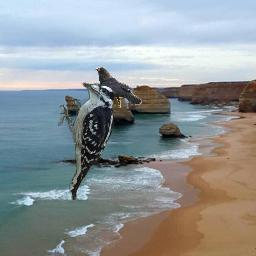Crow: (94, 67, 142, 108)
Woodpecker: (58, 81, 121, 200)
